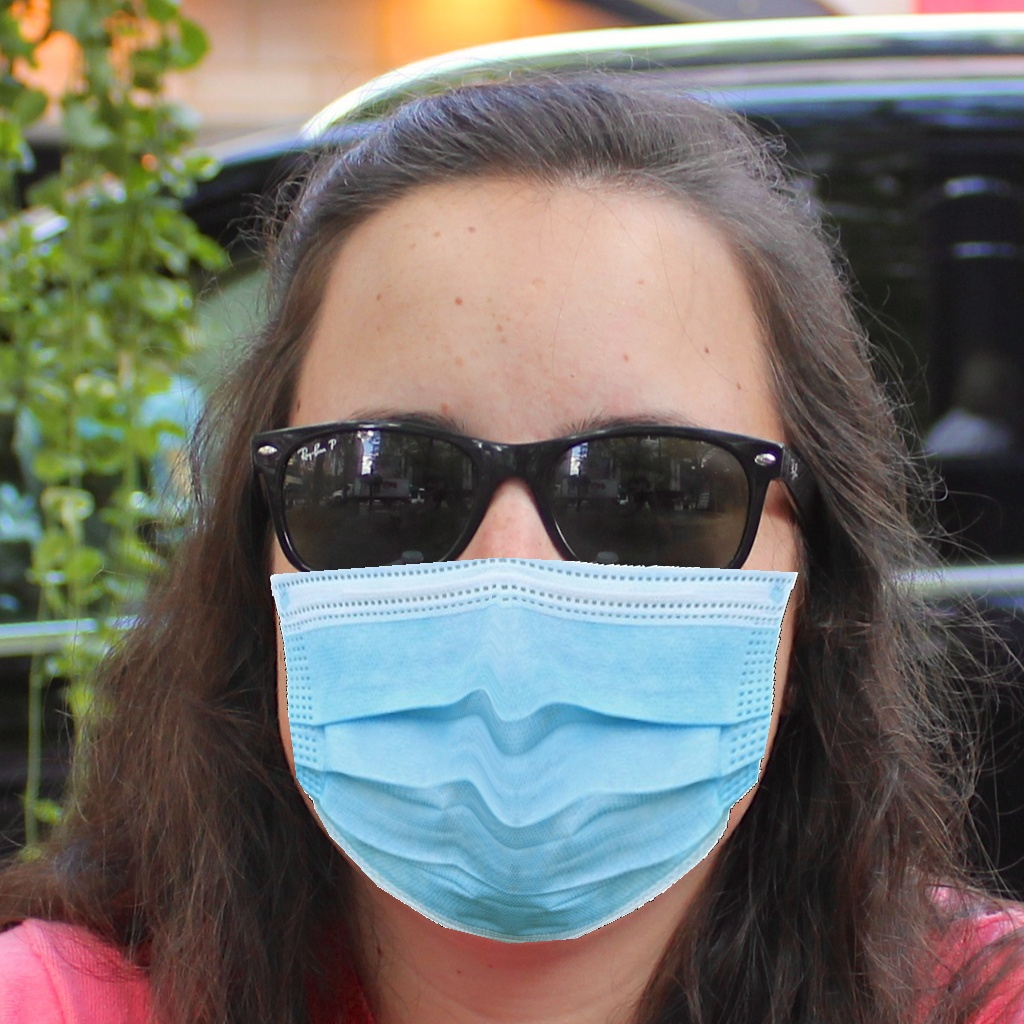Mask: (267, 388, 806, 944)
